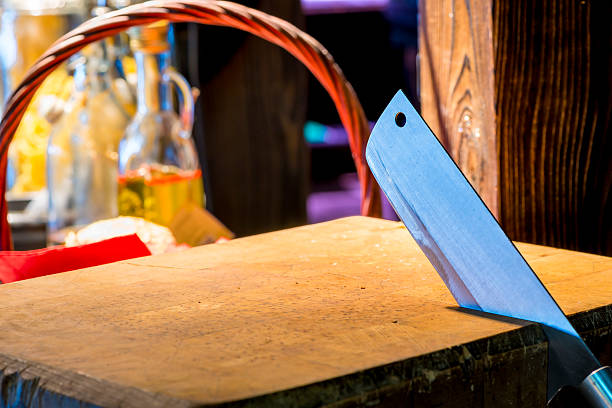knife: (365, 88, 612, 408)
